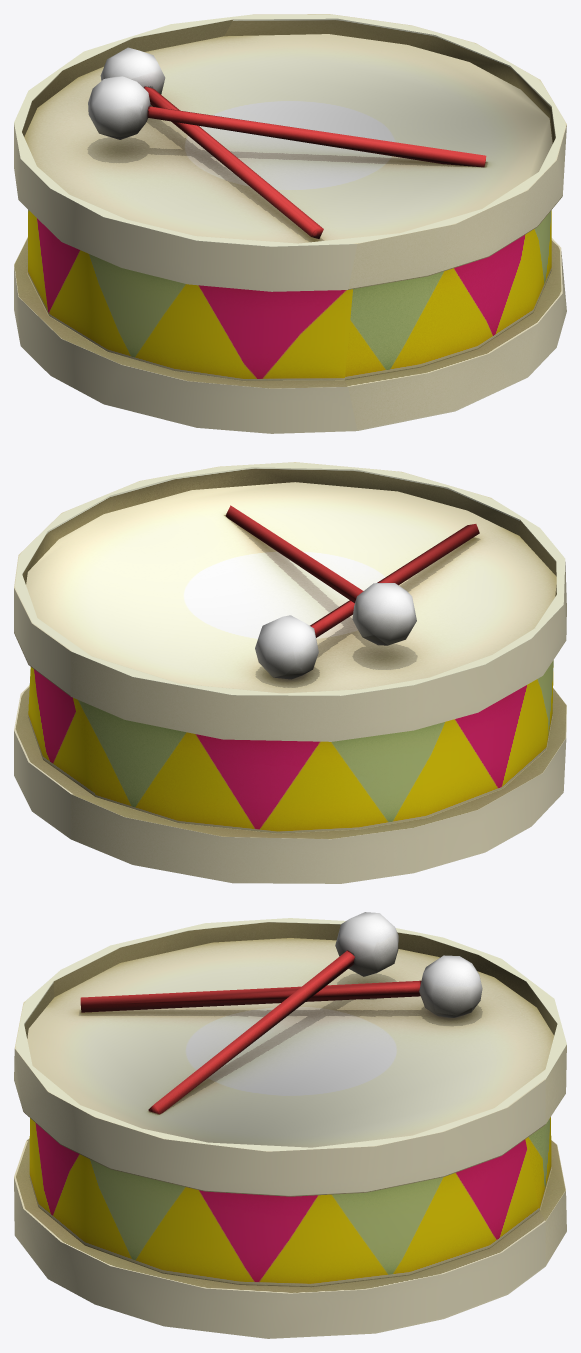
File: drum.fbx
3 renders of one model, top to bottom at view 1: azimuth 30°, elevation 25°; view 2: azimuth 150°, elevation 25°; view 3: azimuth 270°, elevation 25°, orthographic.
Parts seen in each view (by area): view 1: drum; view 2: drum; view 3: drum.
Part boxes in pixels (left/top/right/bottom): drum: left=14, top=14, right=566, bottom=433; drum: left=14, top=462, right=566, bottom=883; drum: left=14, top=912, right=566, bottom=1338.
Bounding box in the file's own units: 17.62 × 8.52 × 17.61.
